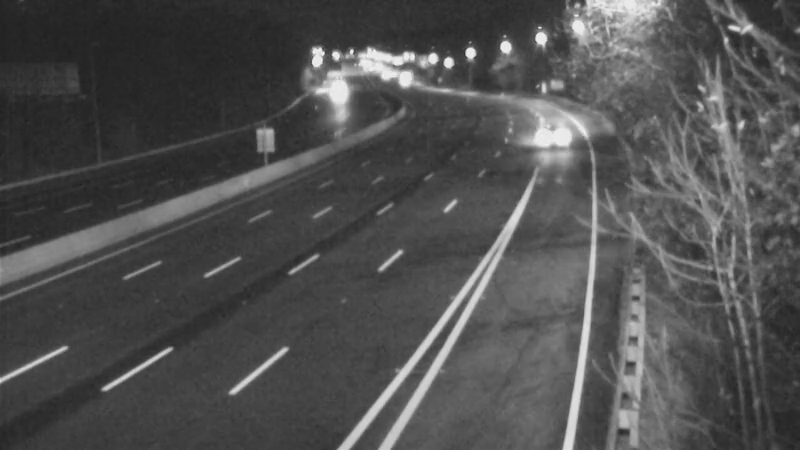vehicle: (530, 111, 580, 161), (312, 69, 362, 119)
